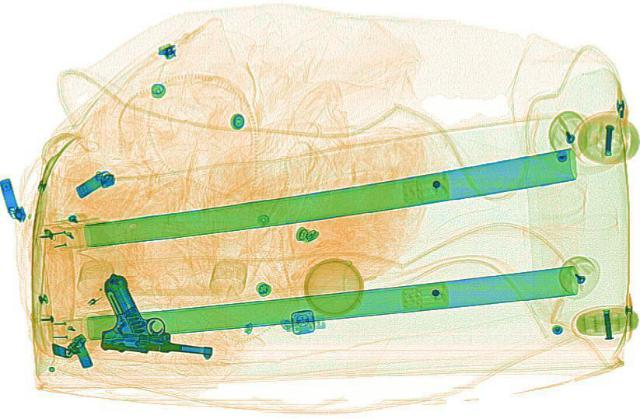Gun: (84, 270, 234, 358)
